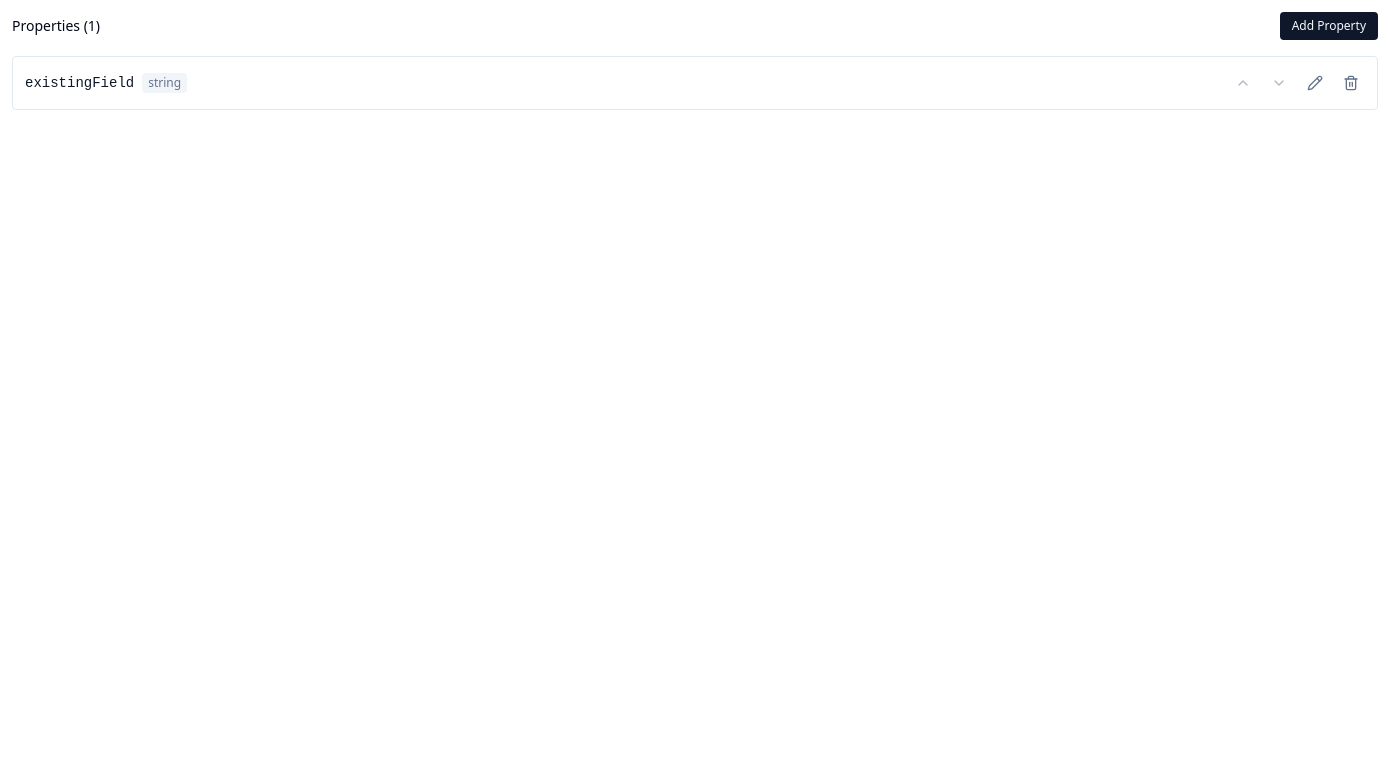
SchemaVisualBuilder › Editing properties › should show edit form when clicking edit
Click the button titled "Edit".
click(1315, 83)  # box 1301,69 -> 1329,97
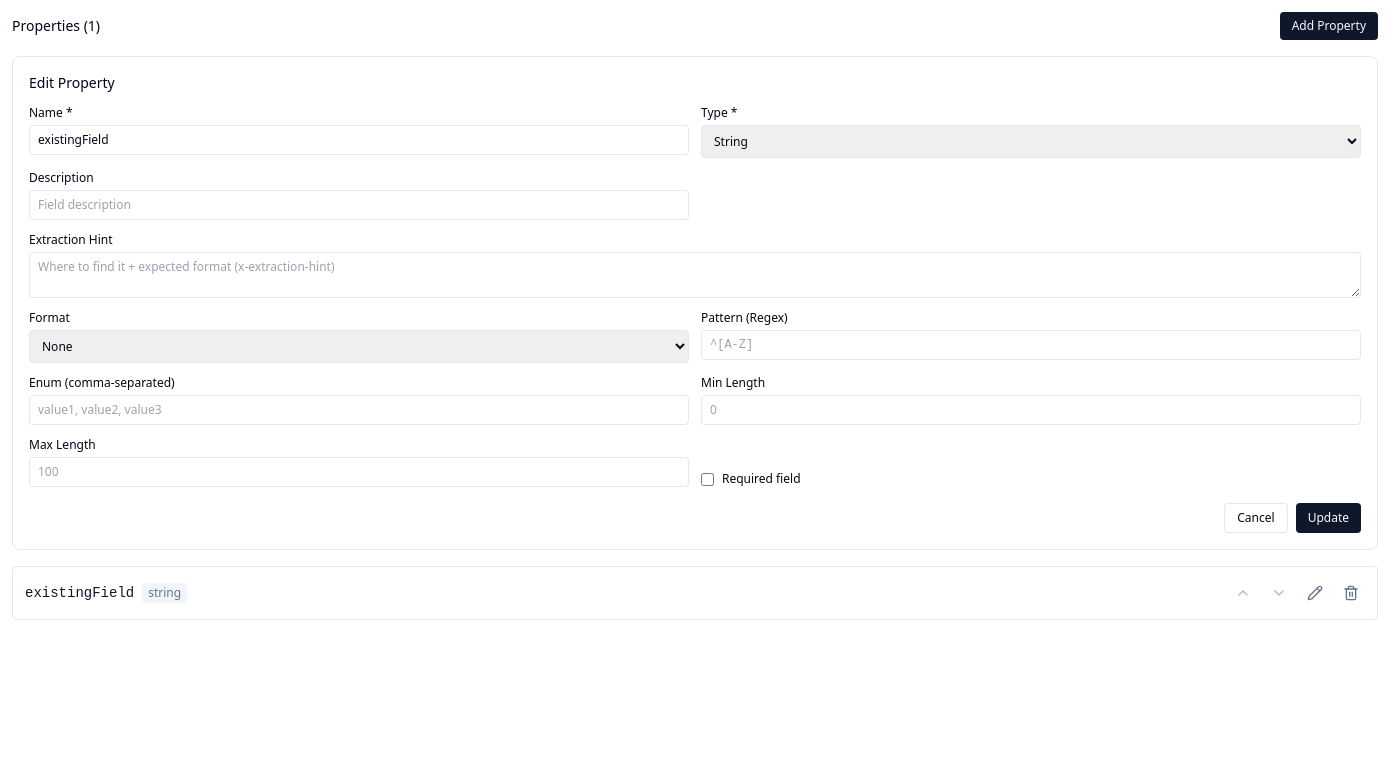
Now the heading "Edit Property" is shown, box 29,73 -> 115,92
Now the field showing "existingField" is shown, box 29,125 -> 689,155
